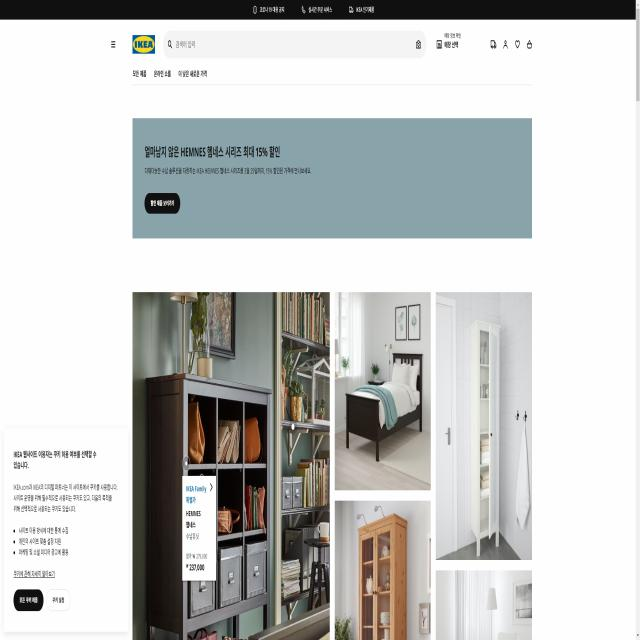menu-bar: (486, 27, 534, 59)
search: (162, 28, 426, 63)
tab-bar: (132, 66, 208, 81)
